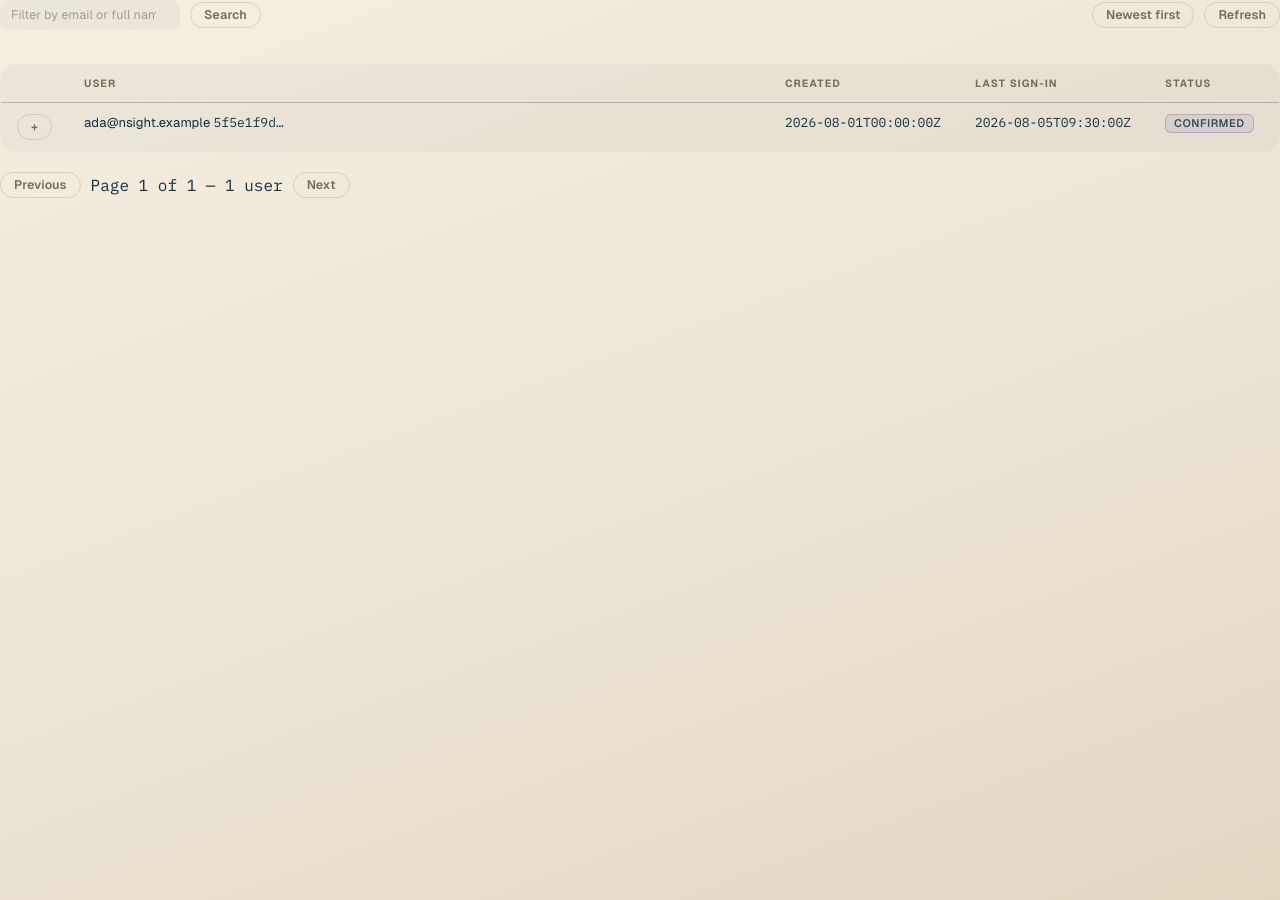
Test: AuthUsersClient — row detail expand › Refresh invalidates the detail cache so re-expand refetches
The image size is (1280, 900).
Click the button named "Expand user detail". click: coordinates (34, 127)
box: [17,114,52,140]
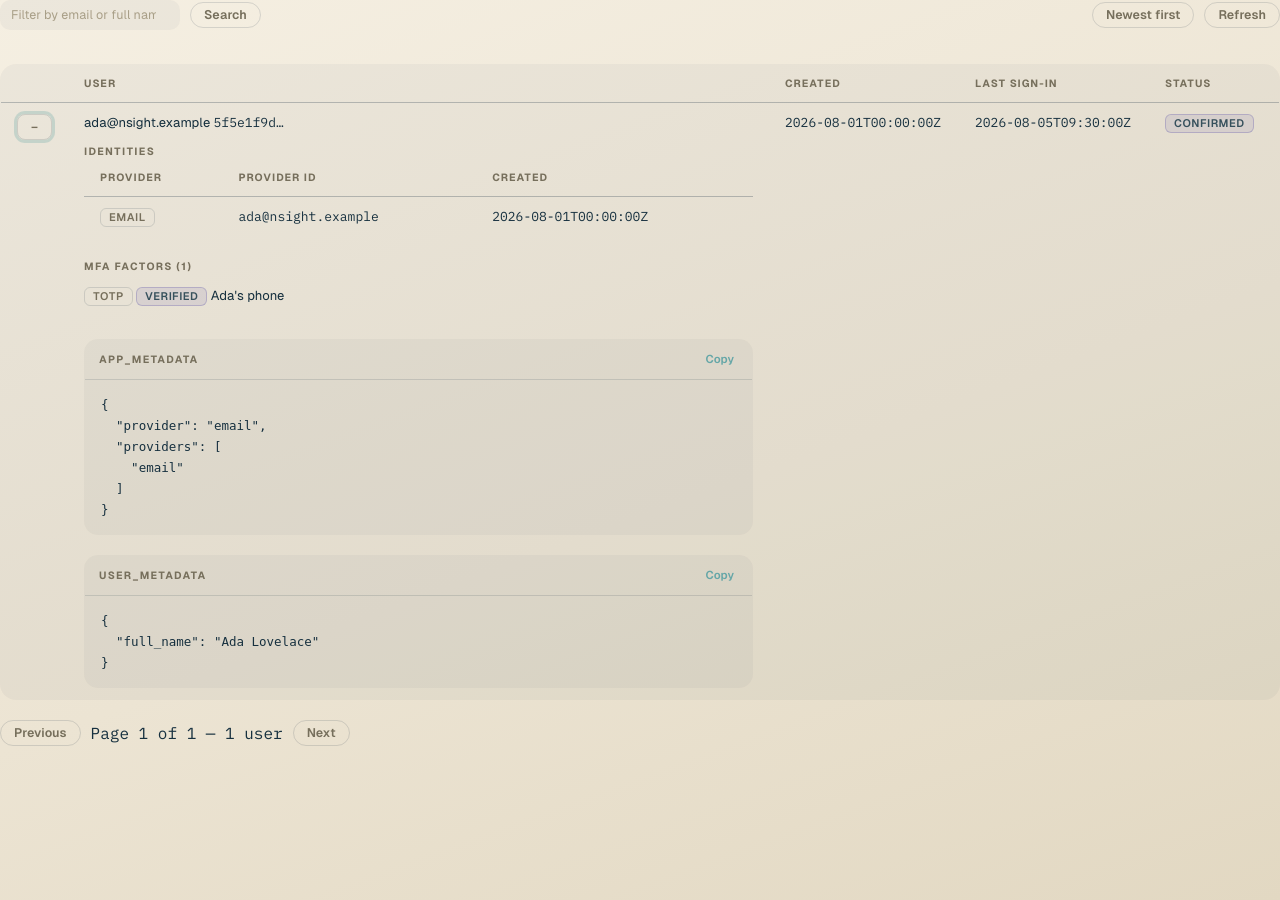
Result: the text "MFA factors (1)" is shown at [84,260,192,272]
Click the button "Refresh". click: coordinates (1242, 15)
box: [1204,2,1279,28]
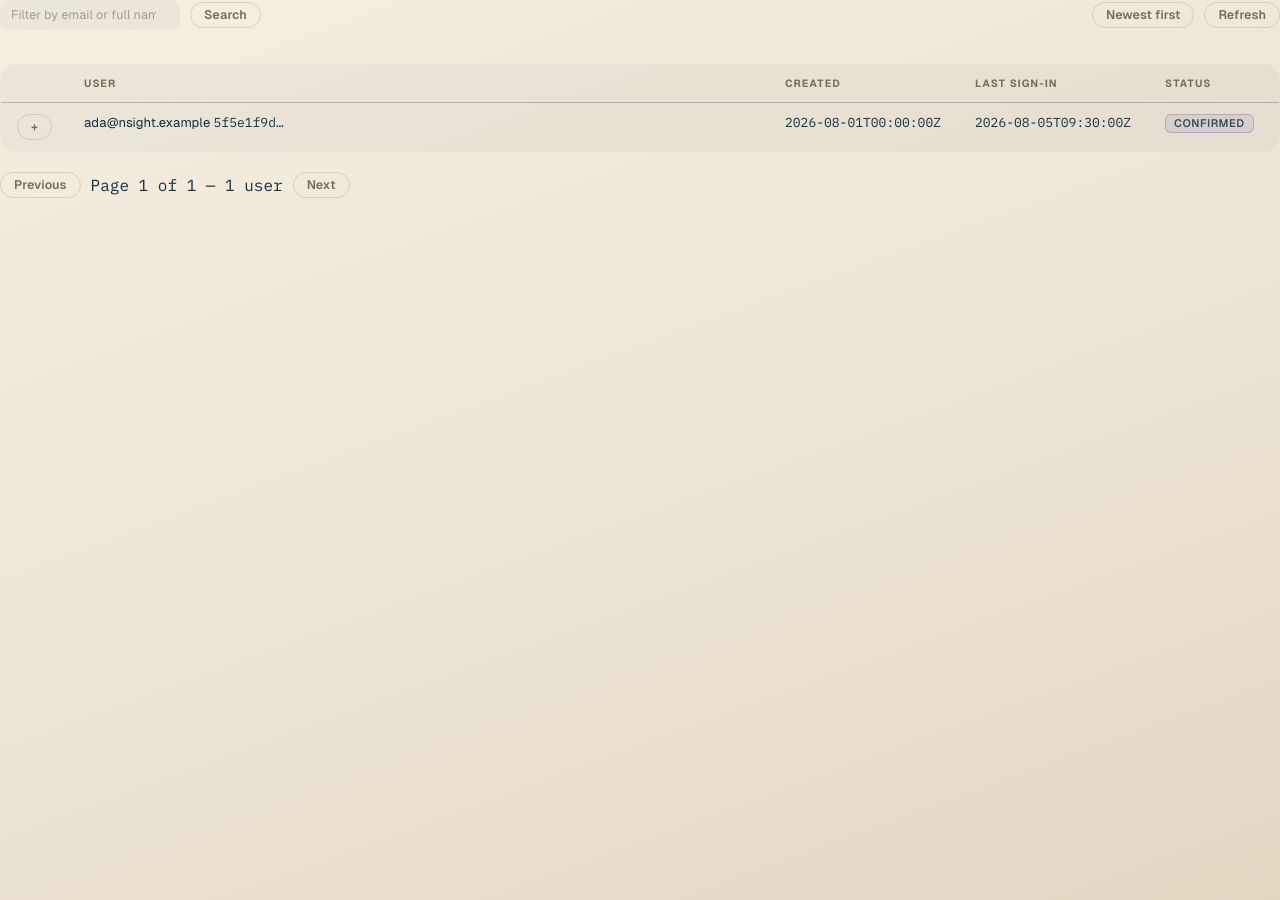
Click the button named "Expand user detail". click: coordinates (34, 127)
box: [17,114,52,140]
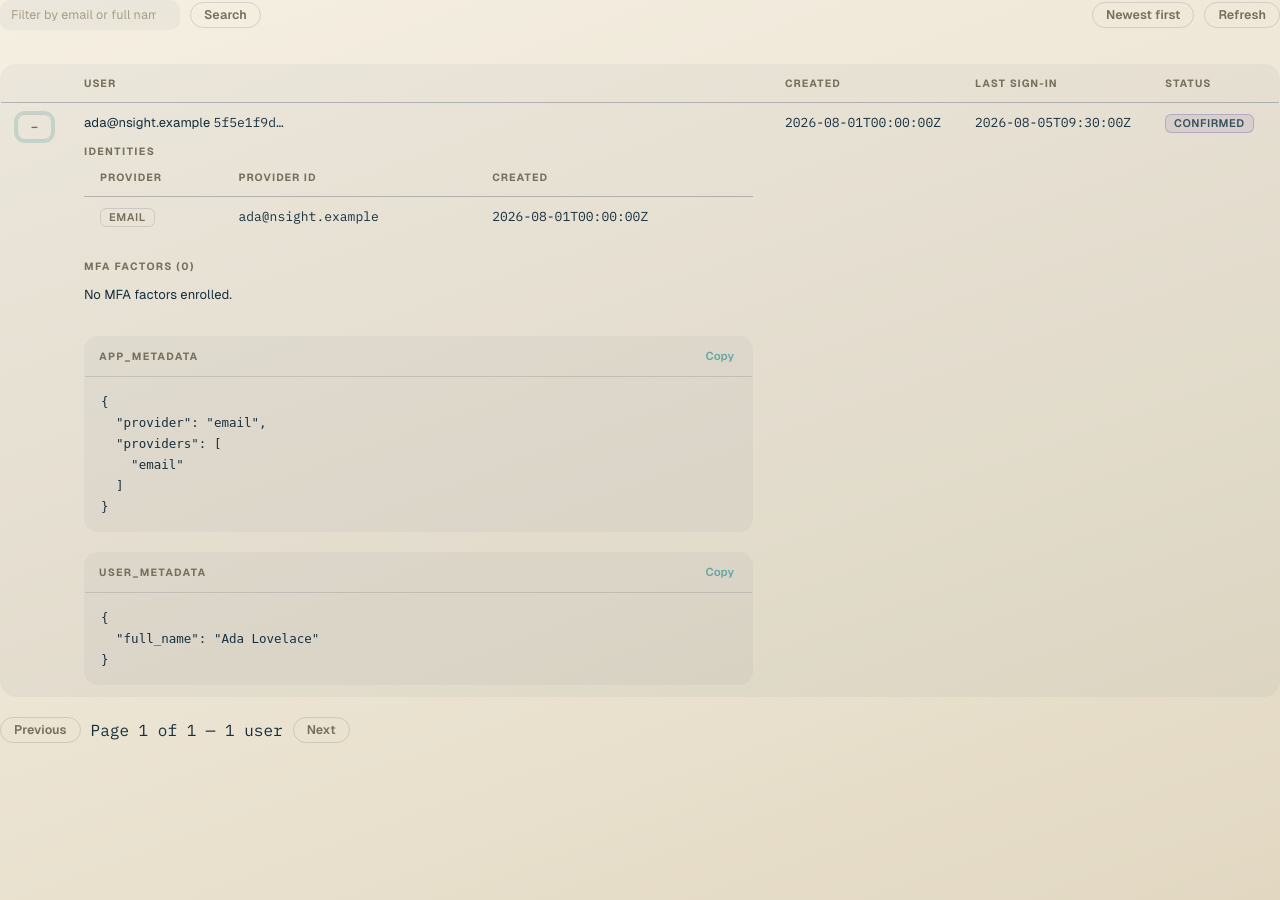
Result: the text "MFA factors (0)" is shown at [84,260,195,272]
Result: the text "No MFA factors enrolled." is shown at [84,287,232,302]
